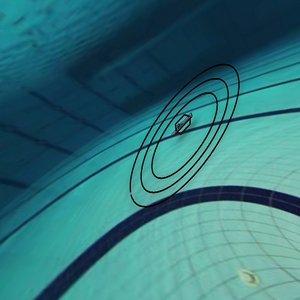circle: (120, 56, 257, 233)
submarine: (165, 106, 196, 137)
